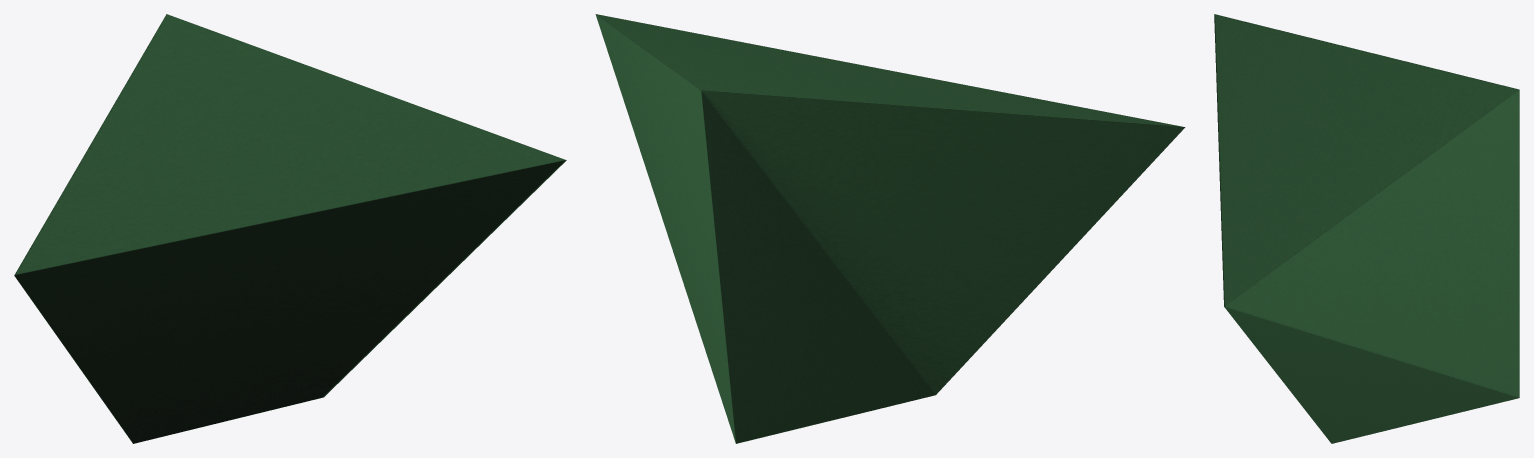
Rendered from child2.gltf.
3 views of the same model, side by side, from view 1: azimuth 30°, elevation 25°; view 2: azimuth 150°, elevation 25°; view 3: azimuth 270°, elevation 25° (orthographic). The views are drawn at different scales.
Visible parts, largest first — view 1: Cone.003; view 2: Cone.003; view 3: Cone.003.
Part boxes in pixels (bbox=[...]): Cone.003: bbox=[14, 14, 566, 443]; Cone.003: bbox=[595, 14, 1185, 443]; Cone.003: bbox=[1214, 14, 1519, 443].
Size of the model in its own units: 2.79 by 1.57 by 1.34.
1 material, 1 textured.
